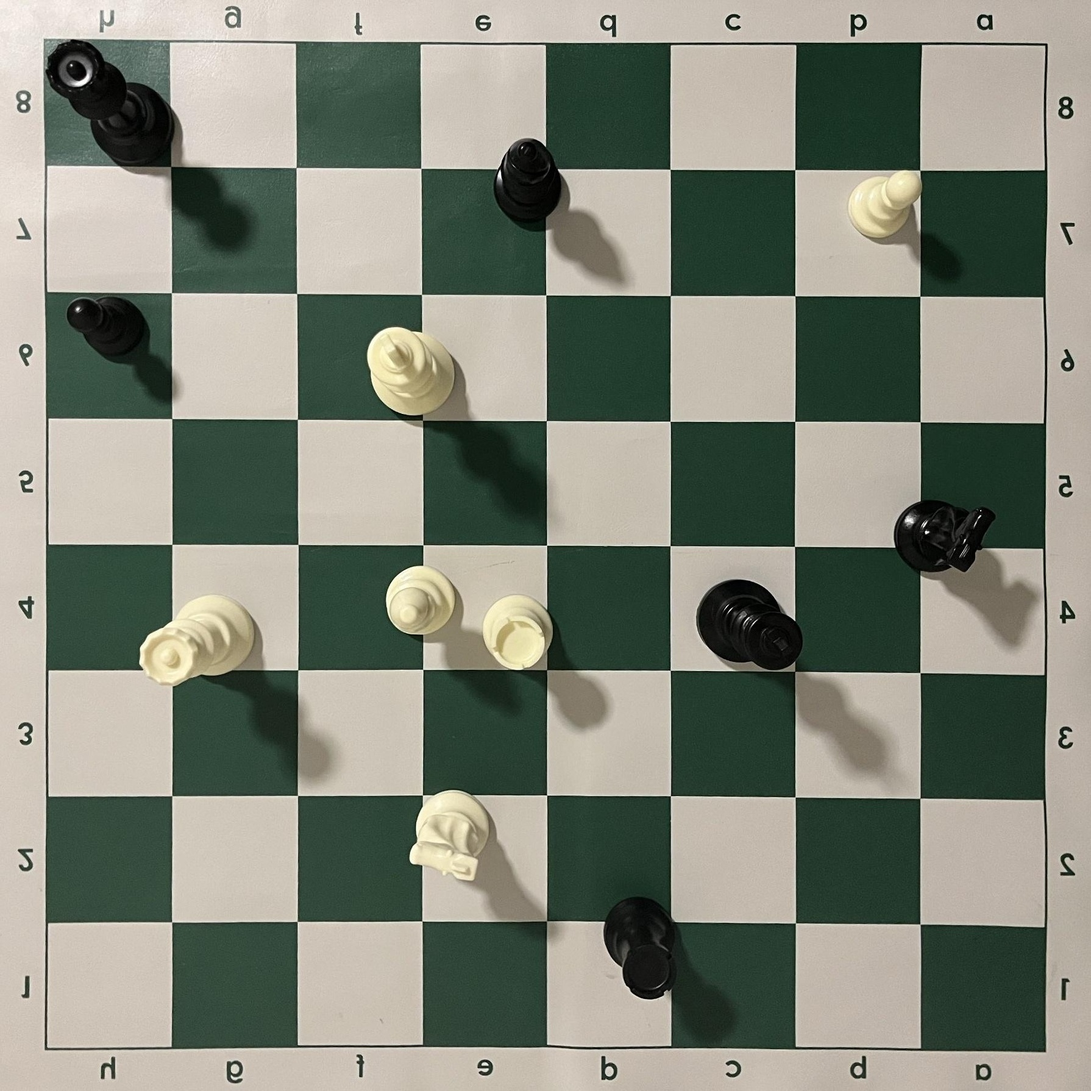black_bishop: (492, 138, 563, 226)
black_king: (695, 578, 805, 671)
black_knight: (894, 499, 997, 574)
black_pawn: (66, 295, 147, 357)
black_queen: (46, 40, 175, 169)
black_rook: (603, 895, 680, 1001)
white_bishop: (385, 564, 457, 636)
white_king: (366, 327, 455, 416)
white_knight: (408, 789, 491, 882)
white_pawn: (847, 169, 924, 238)
white_queen: (139, 593, 256, 688)
white_rook: (481, 594, 553, 672)
